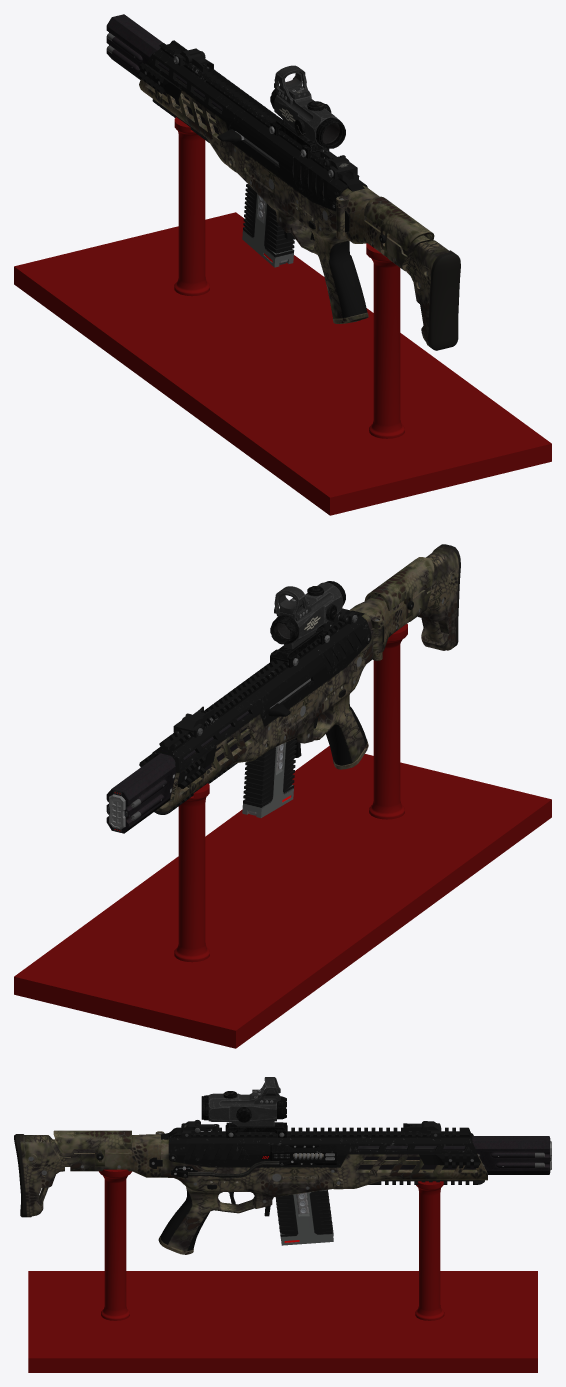
The model's file is Futuristic_Modular_Rifle.glb.
3 renders of one model, top to bottom at view 1: azimuth 30°, elevation 25°; view 2: azimuth 150°, elevation 25°; view 3: azimuth 270°, elevation 25°, orthographic. The views are drawn at different scales.
Parts seen in each view (by area): view 1: Podium001_Podium_0, Receiver005_Receiver_0, HAMR002_Hamr_0, Electric_barrel_006_Electric Barrel_0, Electric MAG003_Electric Mag_0, Sight Down002_IronSight_0; view 2: Podium001_Podium_0, Receiver005_Receiver_0, HAMR002_Hamr_0, Electric_barrel_006_Electric Barrel_0, Electric MAG003_Electric Mag_0, Sight Down002_IronSight_0; view 3: Podium001_Podium_0, Receiver005_Receiver_0, Electric_barrel_006_Electric Barrel_0, HAMR002_Hamr_0, Electric MAG003_Electric Mag_0, Electric_Details002_Electric Details_0, Sight Down002_IronSight_0.
Boxes of the visible parts, x1,y1,x2,y2 form: Podium001_Podium_0: (14,117,551,515); Receiver005_Receiver_0: (138,40,460,350); HAMR002_Hamr_0: (269,65,345,158); Electric_barrel_006_Electric Barrel_0: (106,14,222,134); Electric MAG003_Electric Mag_0: (242,184,294,267); Sight Down002_IronSight_0: (173,48,357,179); Podium001_Podium_0: (14,624,551,1048); Receiver005_Receiver_0: (139,544,460,814); HAMR002_Hamr_0: (270,581,345,667); Electric_barrel_006_Electric Barrel_0: (106,711,250,833); Electric MAG003_Electric Mag_0: (242,737,296,817); Sight Down002_IronSight_0: (173,608,357,737); Podium001_Podium_0: (28,1169,537,1372); Receiver005_Receiver_0: (14,1127,487,1254); Electric_barrel_006_Electric Barrel_0: (357,1136,551,1174); HAMR002_Hamr_0: (201,1077,287,1137); Electric MAG003_Electric Mag_0: (275,1189,333,1245); Electric_Details002_Electric Details_0: (171,1145,336,1177); Sight Down002_IronSight_0: (181,1120,440,1138).
Bounding box in the file's own units: 21.7 × 29.05 × 56.53.
Materials: 12 (10 with a texture image).
